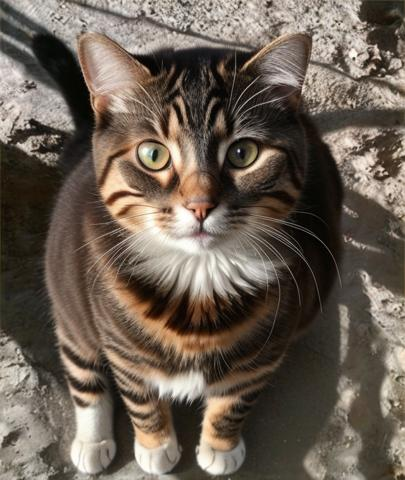cat: (32, 34, 344, 473)
